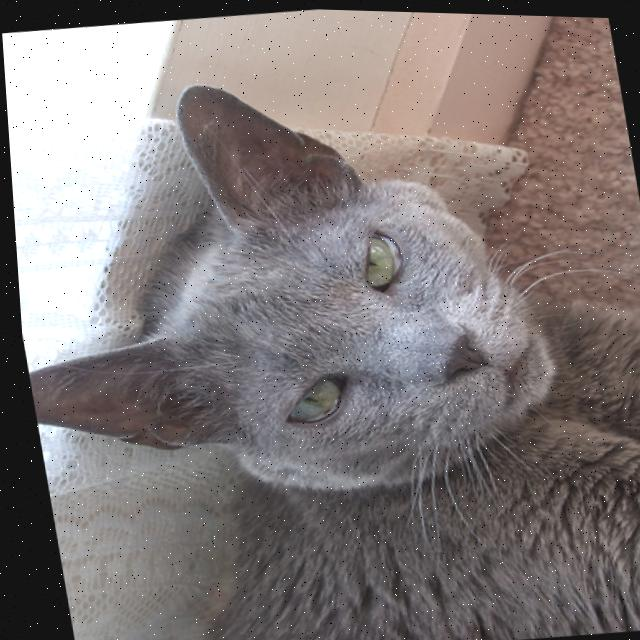Russian Blue: (2, 29, 640, 640)
